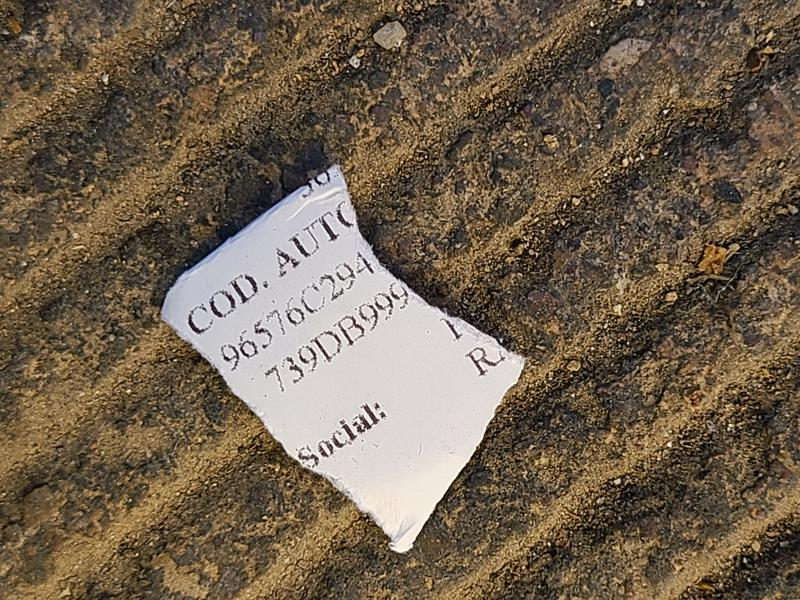papel: (160, 167, 527, 556)
